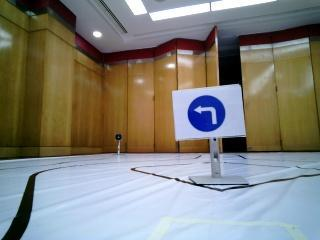left: (172, 90, 239, 136)
